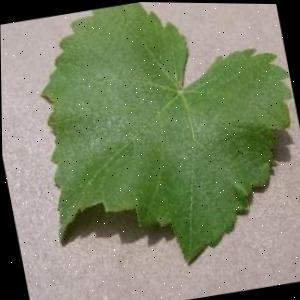Folha: (15, 0, 300, 287)
